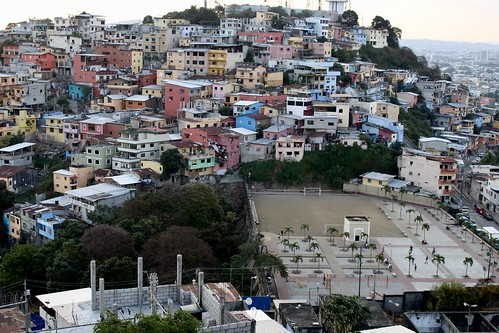building: (65, 183, 140, 219), (159, 43, 233, 76), (117, 130, 173, 170), (93, 43, 150, 75), (77, 142, 119, 177), (161, 82, 208, 113), (76, 53, 114, 86), (18, 49, 59, 77), (41, 31, 82, 59), (46, 110, 73, 139), (361, 25, 391, 49), (274, 138, 304, 162)
vegetation: (11, 195, 236, 290)
